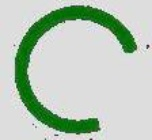ProgressBar: (1, 1, 151, 139)
